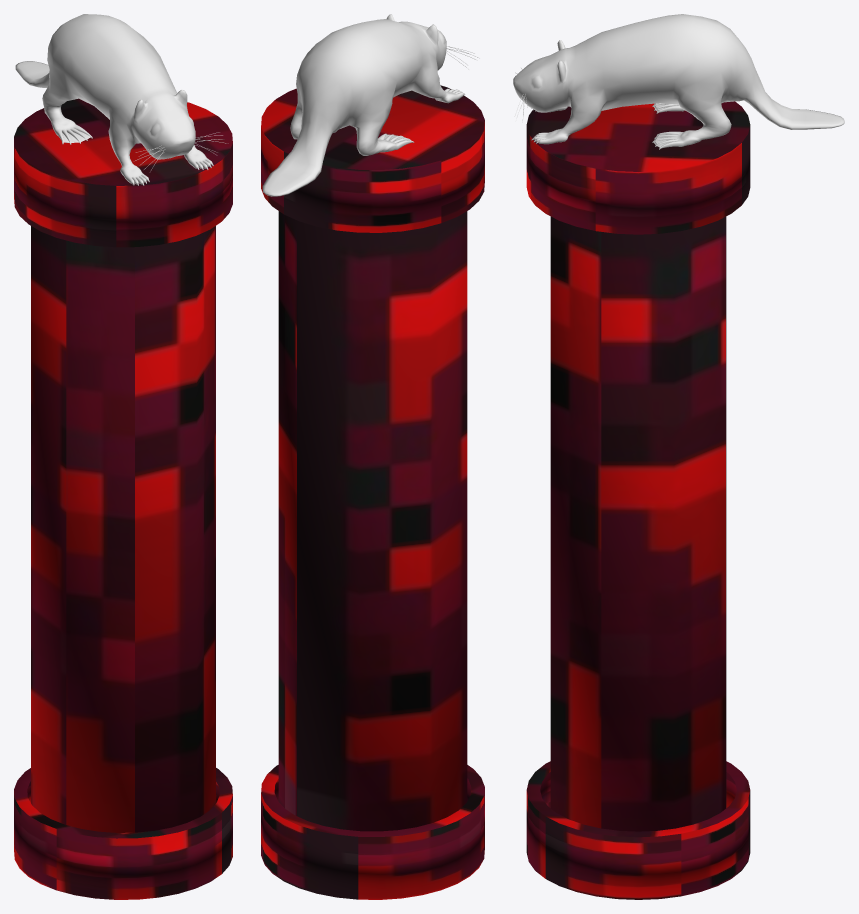
File: fence_divider_chris (1).fbx
The picture shows the model from 3 angles, left to right: view 1: azimuth 30°, elevation 25°; view 2: azimuth 150°, elevation 25°; view 3: azimuth 270°, elevation 25°; orthographic projection. The views are drawn at different scales.
Visible parts, largest first — view 1: Pole, Top Piece, Beaver, Bot Piece; view 2: Pole, Top Piece, Beaver, Bot Piece; view 3: Pole, Top Piece, Beaver, Bot Piece.
Part boxes in pixels (bbox=[...]): Pole: bbox=[31, 226, 215, 832]; Top Piece: bbox=[14, 98, 232, 247]; Beaver: bbox=[15, 14, 228, 185]; Bot Piece: bbox=[14, 768, 232, 899]; Pole: bbox=[278, 211, 467, 831]; Top Piece: bbox=[261, 85, 484, 232]; Beaver: bbox=[262, 14, 479, 196]; Bot Piece: bbox=[261, 765, 484, 899]; Pole: bbox=[550, 216, 726, 831]; Top Piece: bbox=[526, 101, 750, 234]; Beaver: bbox=[513, 14, 844, 149]; Bot Piece: bbox=[526, 761, 750, 899].
Size of the model in its own units: 95.82 by 394 by 142.
Materials: 2 (1 with a texture image).
